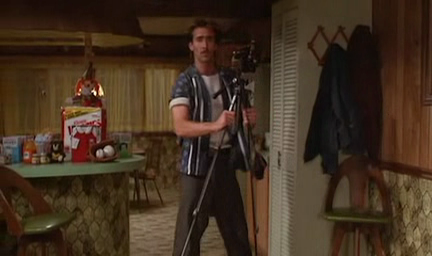face: (193, 29, 214, 62)
mls: (1, 1, 432, 256)
person: (168, 19, 257, 256)
